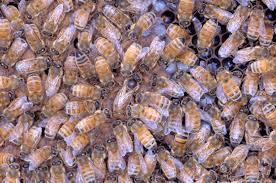Queen-Bee: (110, 73, 147, 118)
worker-bee: (123, 9, 158, 46), (128, 116, 159, 154), (214, 67, 244, 104), (75, 107, 114, 134), (50, 25, 79, 60), (0, 34, 26, 73), (91, 9, 121, 42), (41, 4, 69, 39), (222, 140, 248, 177), (95, 36, 123, 70), (93, 56, 118, 92), (220, 26, 245, 62), (43, 108, 65, 148), (28, 143, 58, 172), (230, 102, 249, 147), (199, 0, 233, 25), (73, 52, 100, 83), (142, 36, 163, 75), (179, 96, 201, 133), (120, 41, 143, 76), (197, 132, 222, 164), (129, 103, 165, 124), (138, 88, 172, 110), (24, 23, 46, 57), (73, 151, 96, 183), (246, 0, 263, 43), (104, 135, 123, 173), (174, 0, 197, 31), (112, 118, 132, 153), (45, 61, 63, 98), (89, 140, 107, 176), (72, 82, 107, 100), (157, 148, 176, 181), (229, 0, 248, 33), (63, 99, 102, 115), (25, 73, 45, 104), (167, 100, 182, 136), (251, 57, 276, 74), (52, 159, 69, 182), (7, 162, 25, 183)
